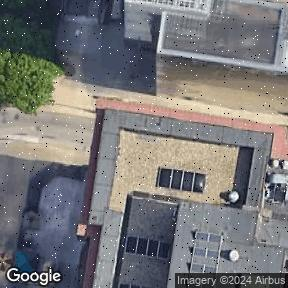vegetation: (0, 50, 65, 119)
